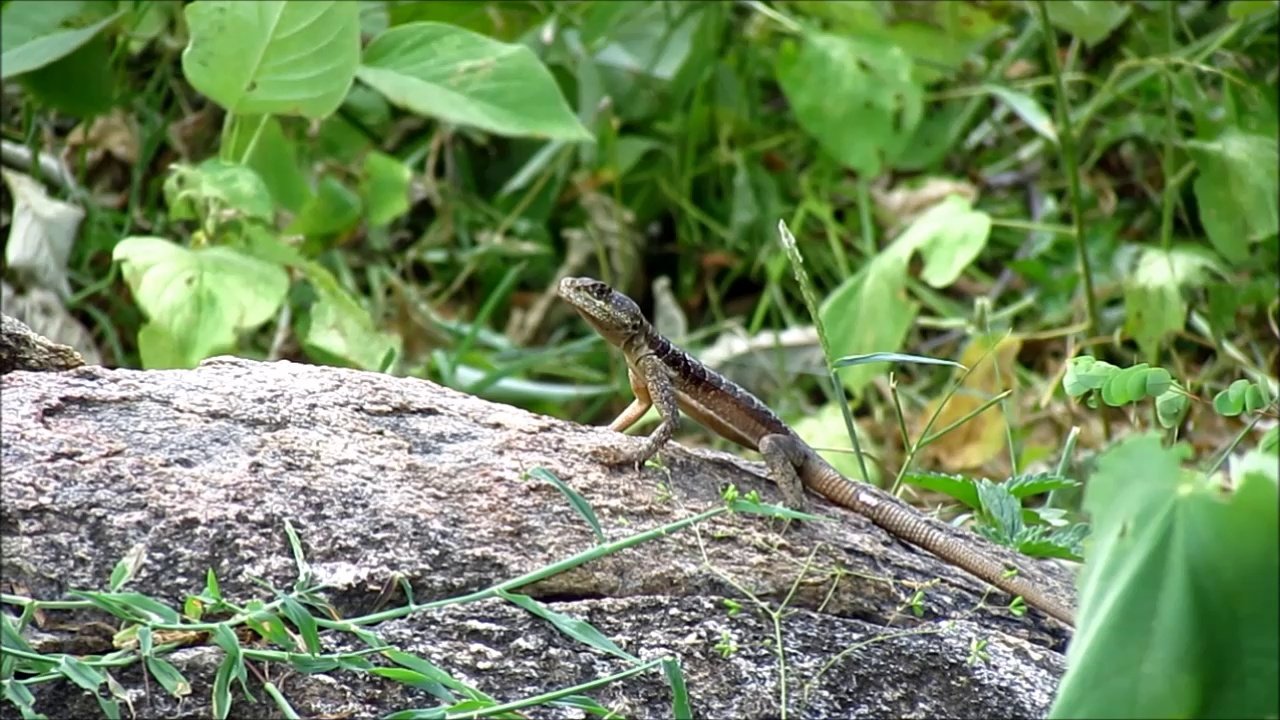body: (601, 321, 1079, 626)
head: (558, 276, 644, 342)
